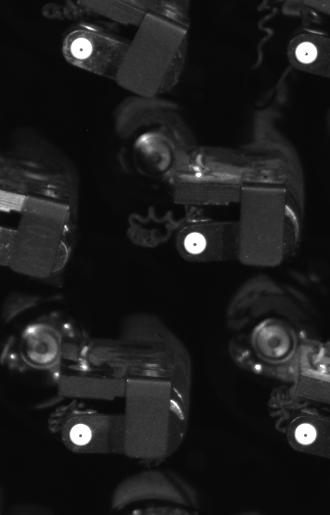fiber: (179, 227, 216, 259), (65, 34, 102, 65), (290, 419, 322, 451), (66, 421, 99, 452), (291, 37, 325, 67)
